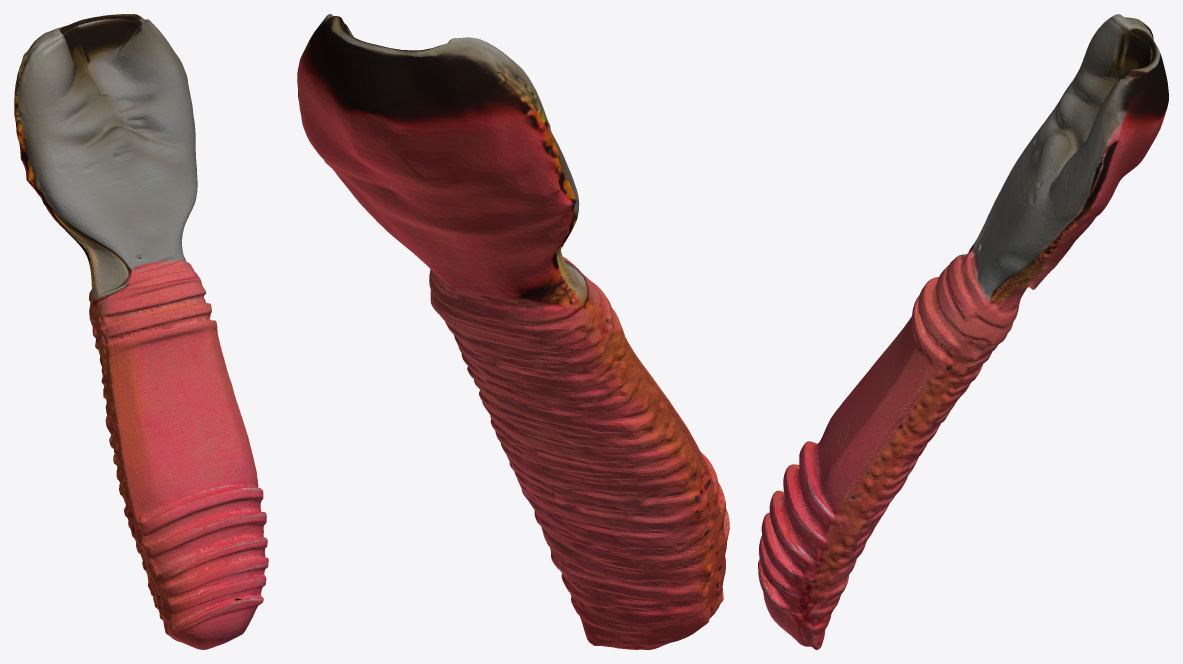
The model's file is image_0002_segmented.glb.
3 views of the same model, side by side, from view 1: azimuth 30°, elevation 25°; view 2: azimuth 150°, elevation 25°; view 3: azimuth 270°, elevation 25° (orthographic). The views are drawn at different scales.
Parts seen in each view (by area): view 1: tmpws3tnobg.ply; view 2: tmpws3tnobg.ply; view 3: tmpws3tnobg.ply.
Boxes of the visible parts, x1,y1,x2,y2 form: tmpws3tnobg.ply: (14,14,268,649); tmpws3tnobg.ply: (297,14,729,649); tmpws3tnobg.ply: (758,14,1168,649).
Size of the model in its own units: 0.7057 by 1.99 by 1.23.
1 material, 1 textured.
